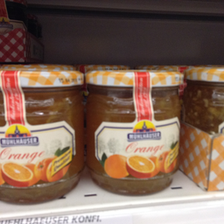jam: (85, 70, 183, 195), (1, 70, 87, 204)
